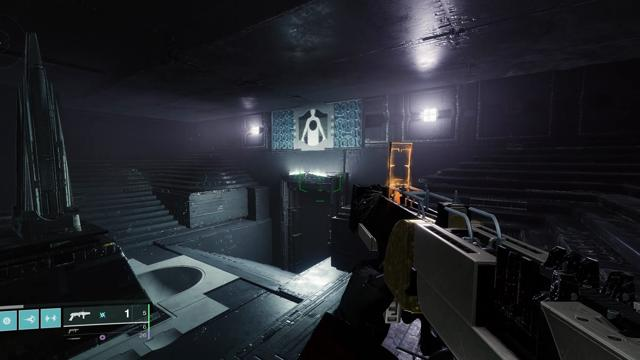grief: (299, 109, 328, 146)
